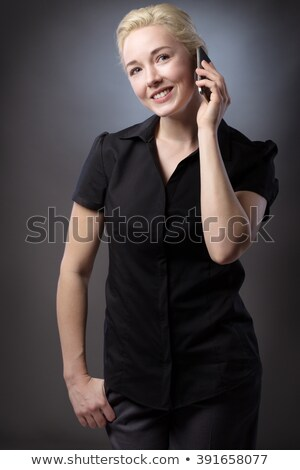phone: (191, 40, 223, 116)
talk: (131, 39, 232, 146)
